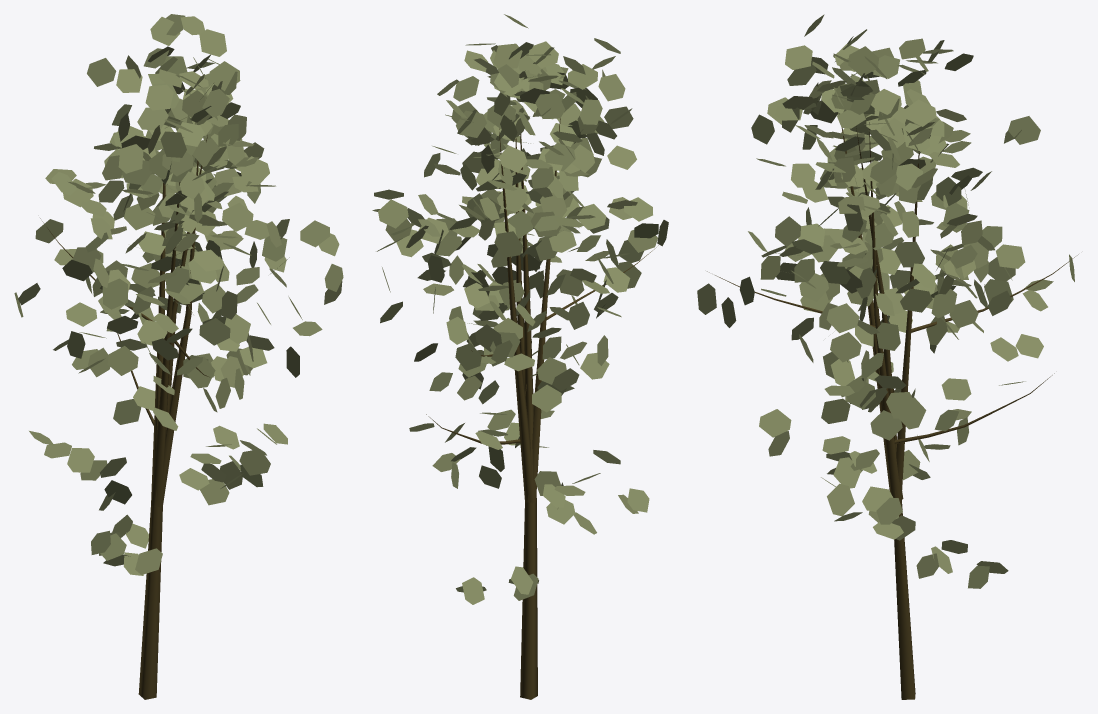
The model's file is tree-tree-008-lod1.glb.
3 renders of one model, left to right at view 1: azimuth 30°, elevation 25°; view 2: azimuth 150°, elevation 25°; view 3: azimuth 270°, elevation 25°, orthographic. The views are drawn at different scales.
Parts seen in each view (by area): view 1: v_tree.008; view 2: v_tree.008; view 3: v_tree.008.
Boxes of the visible parts, <box> form: v_tree.008: <box>14,14,343,699</box>; v_tree.008: <box>372,14,668,699</box>; v_tree.008: <box>697,14,1078,699</box>.
Bounding box in the file's own units: 7.1 × 17.3 × 8.82.
